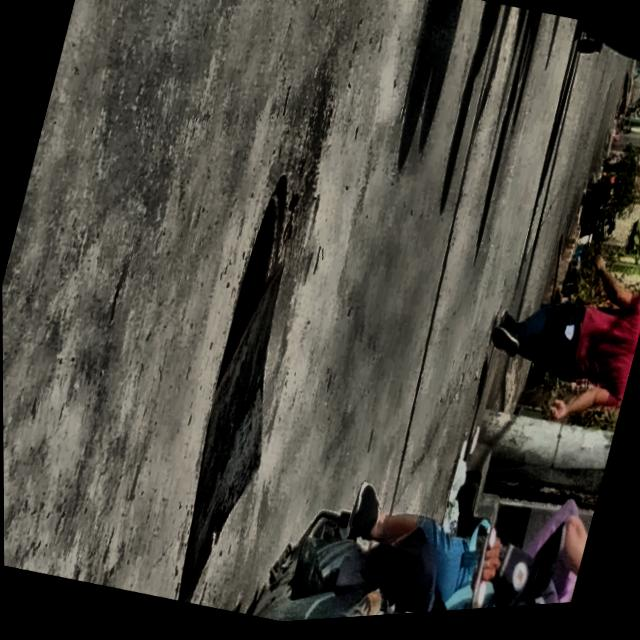open_manhole: (182, 181, 285, 578)
